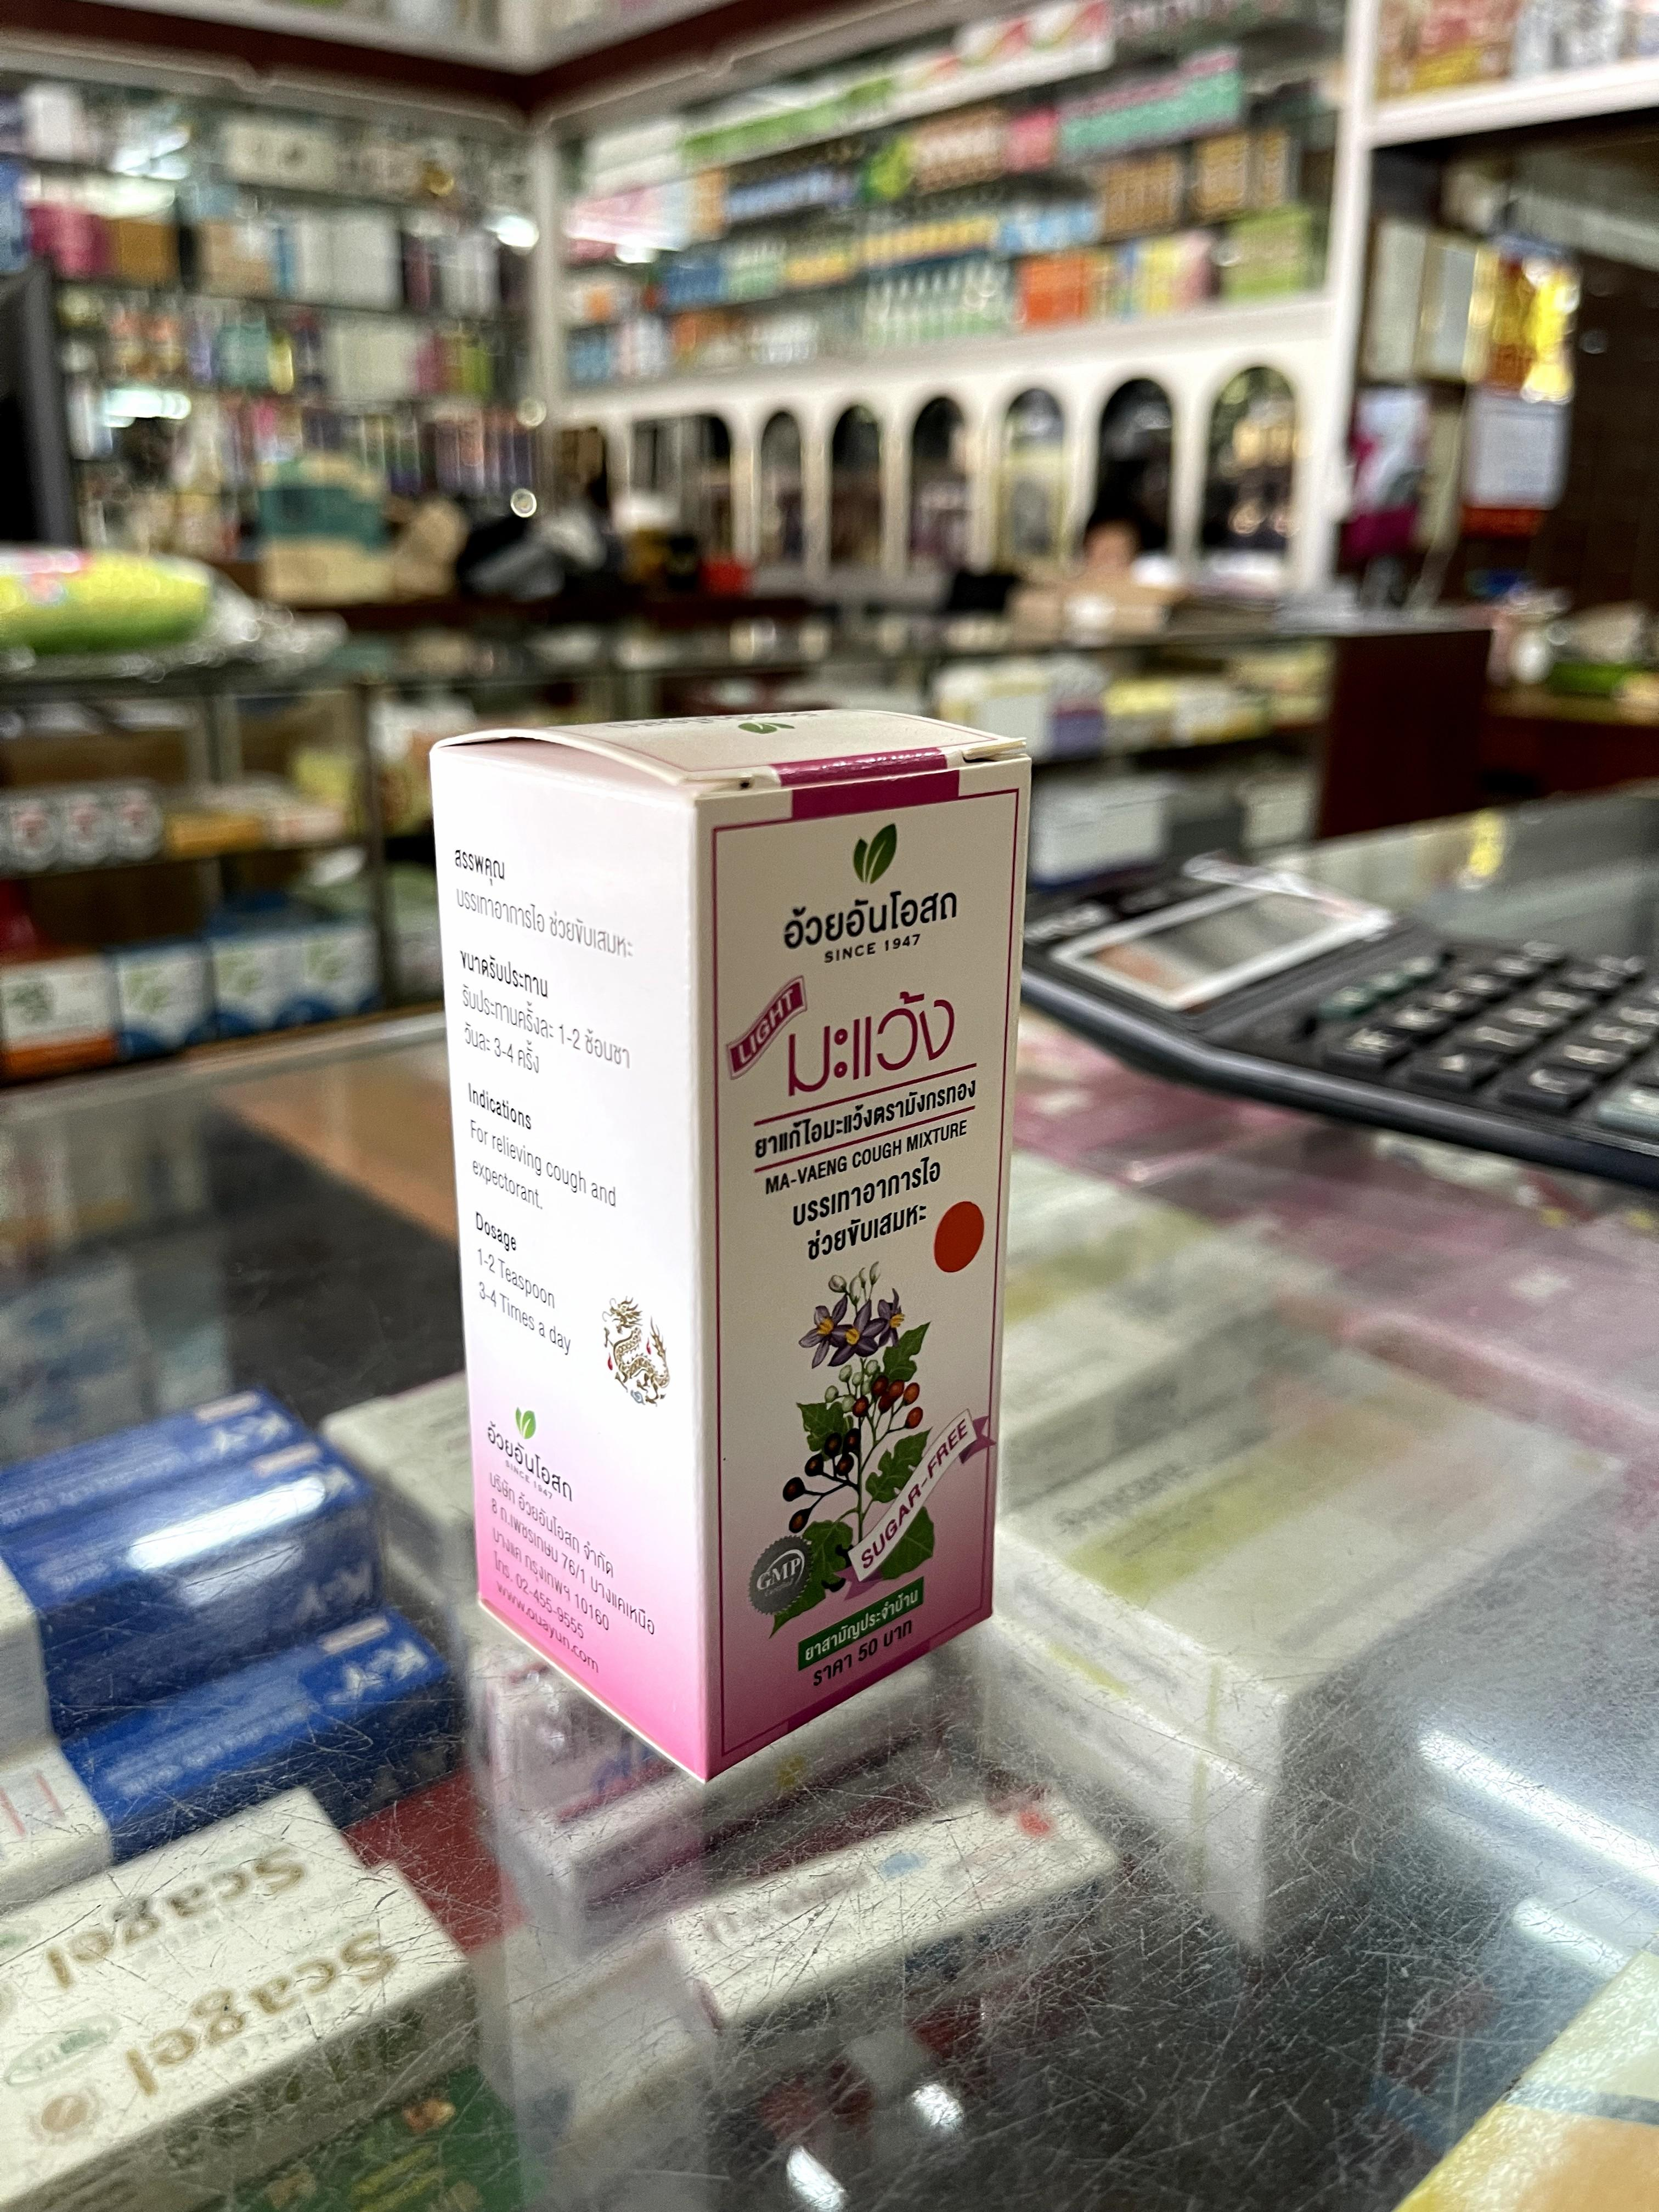Ma-Vaeng_Light: (436, 716, 1033, 1764)
